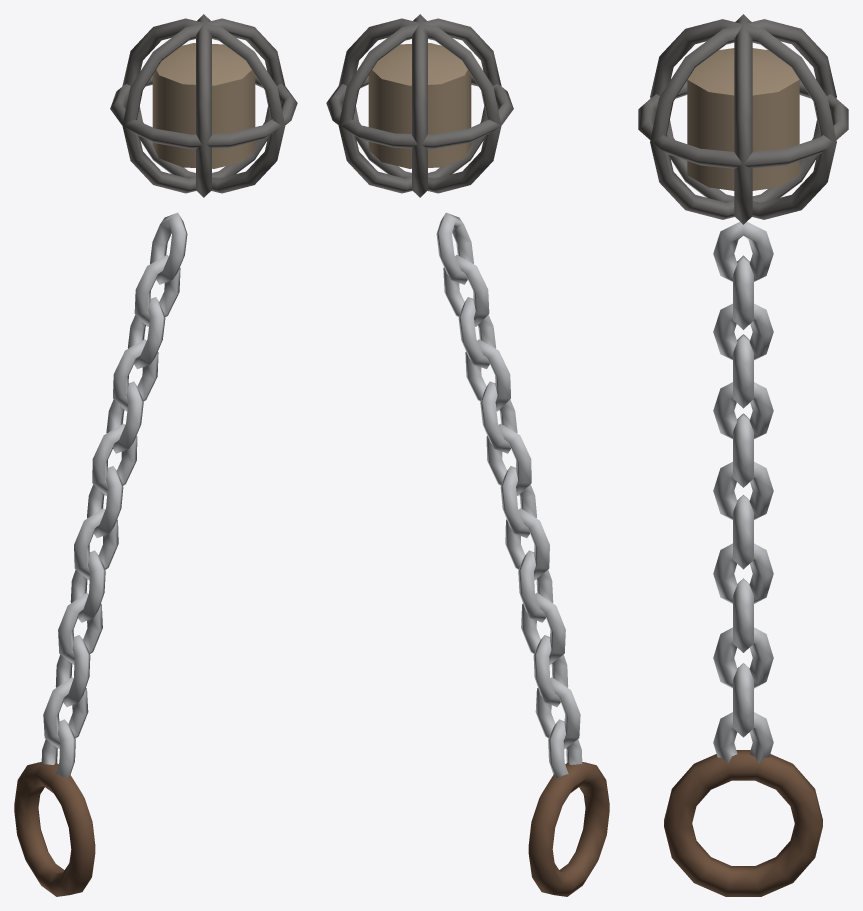
File: battle-poi.glb
3 renders of one model, left to right at view 1: azimuth 30°, elevation 25°; view 2: azimuth 150°, elevation 25°; view 3: azimuth 270°, elevation 25°, orthographic. The views are drawn at different scales.
Parts seen in each view (by area): view 1: battle-poi; view 2: battle-poi; view 3: battle-poi.
Boxes of the visible parts, x1,y1,x2,y2 form: battle-poi: [14, 14, 297, 896]; battle-poi: [326, 14, 609, 896]; battle-poi: [638, 14, 848, 896].
Bounding box in the file's own units: 0.244 × 0.7988 × 0.1599.
